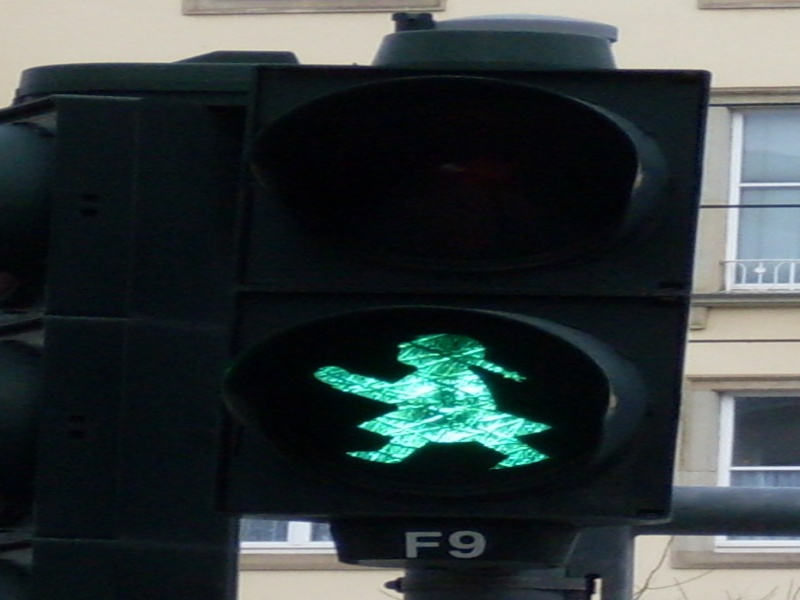pedestrian_crossing_green: (234, 304, 617, 494)
